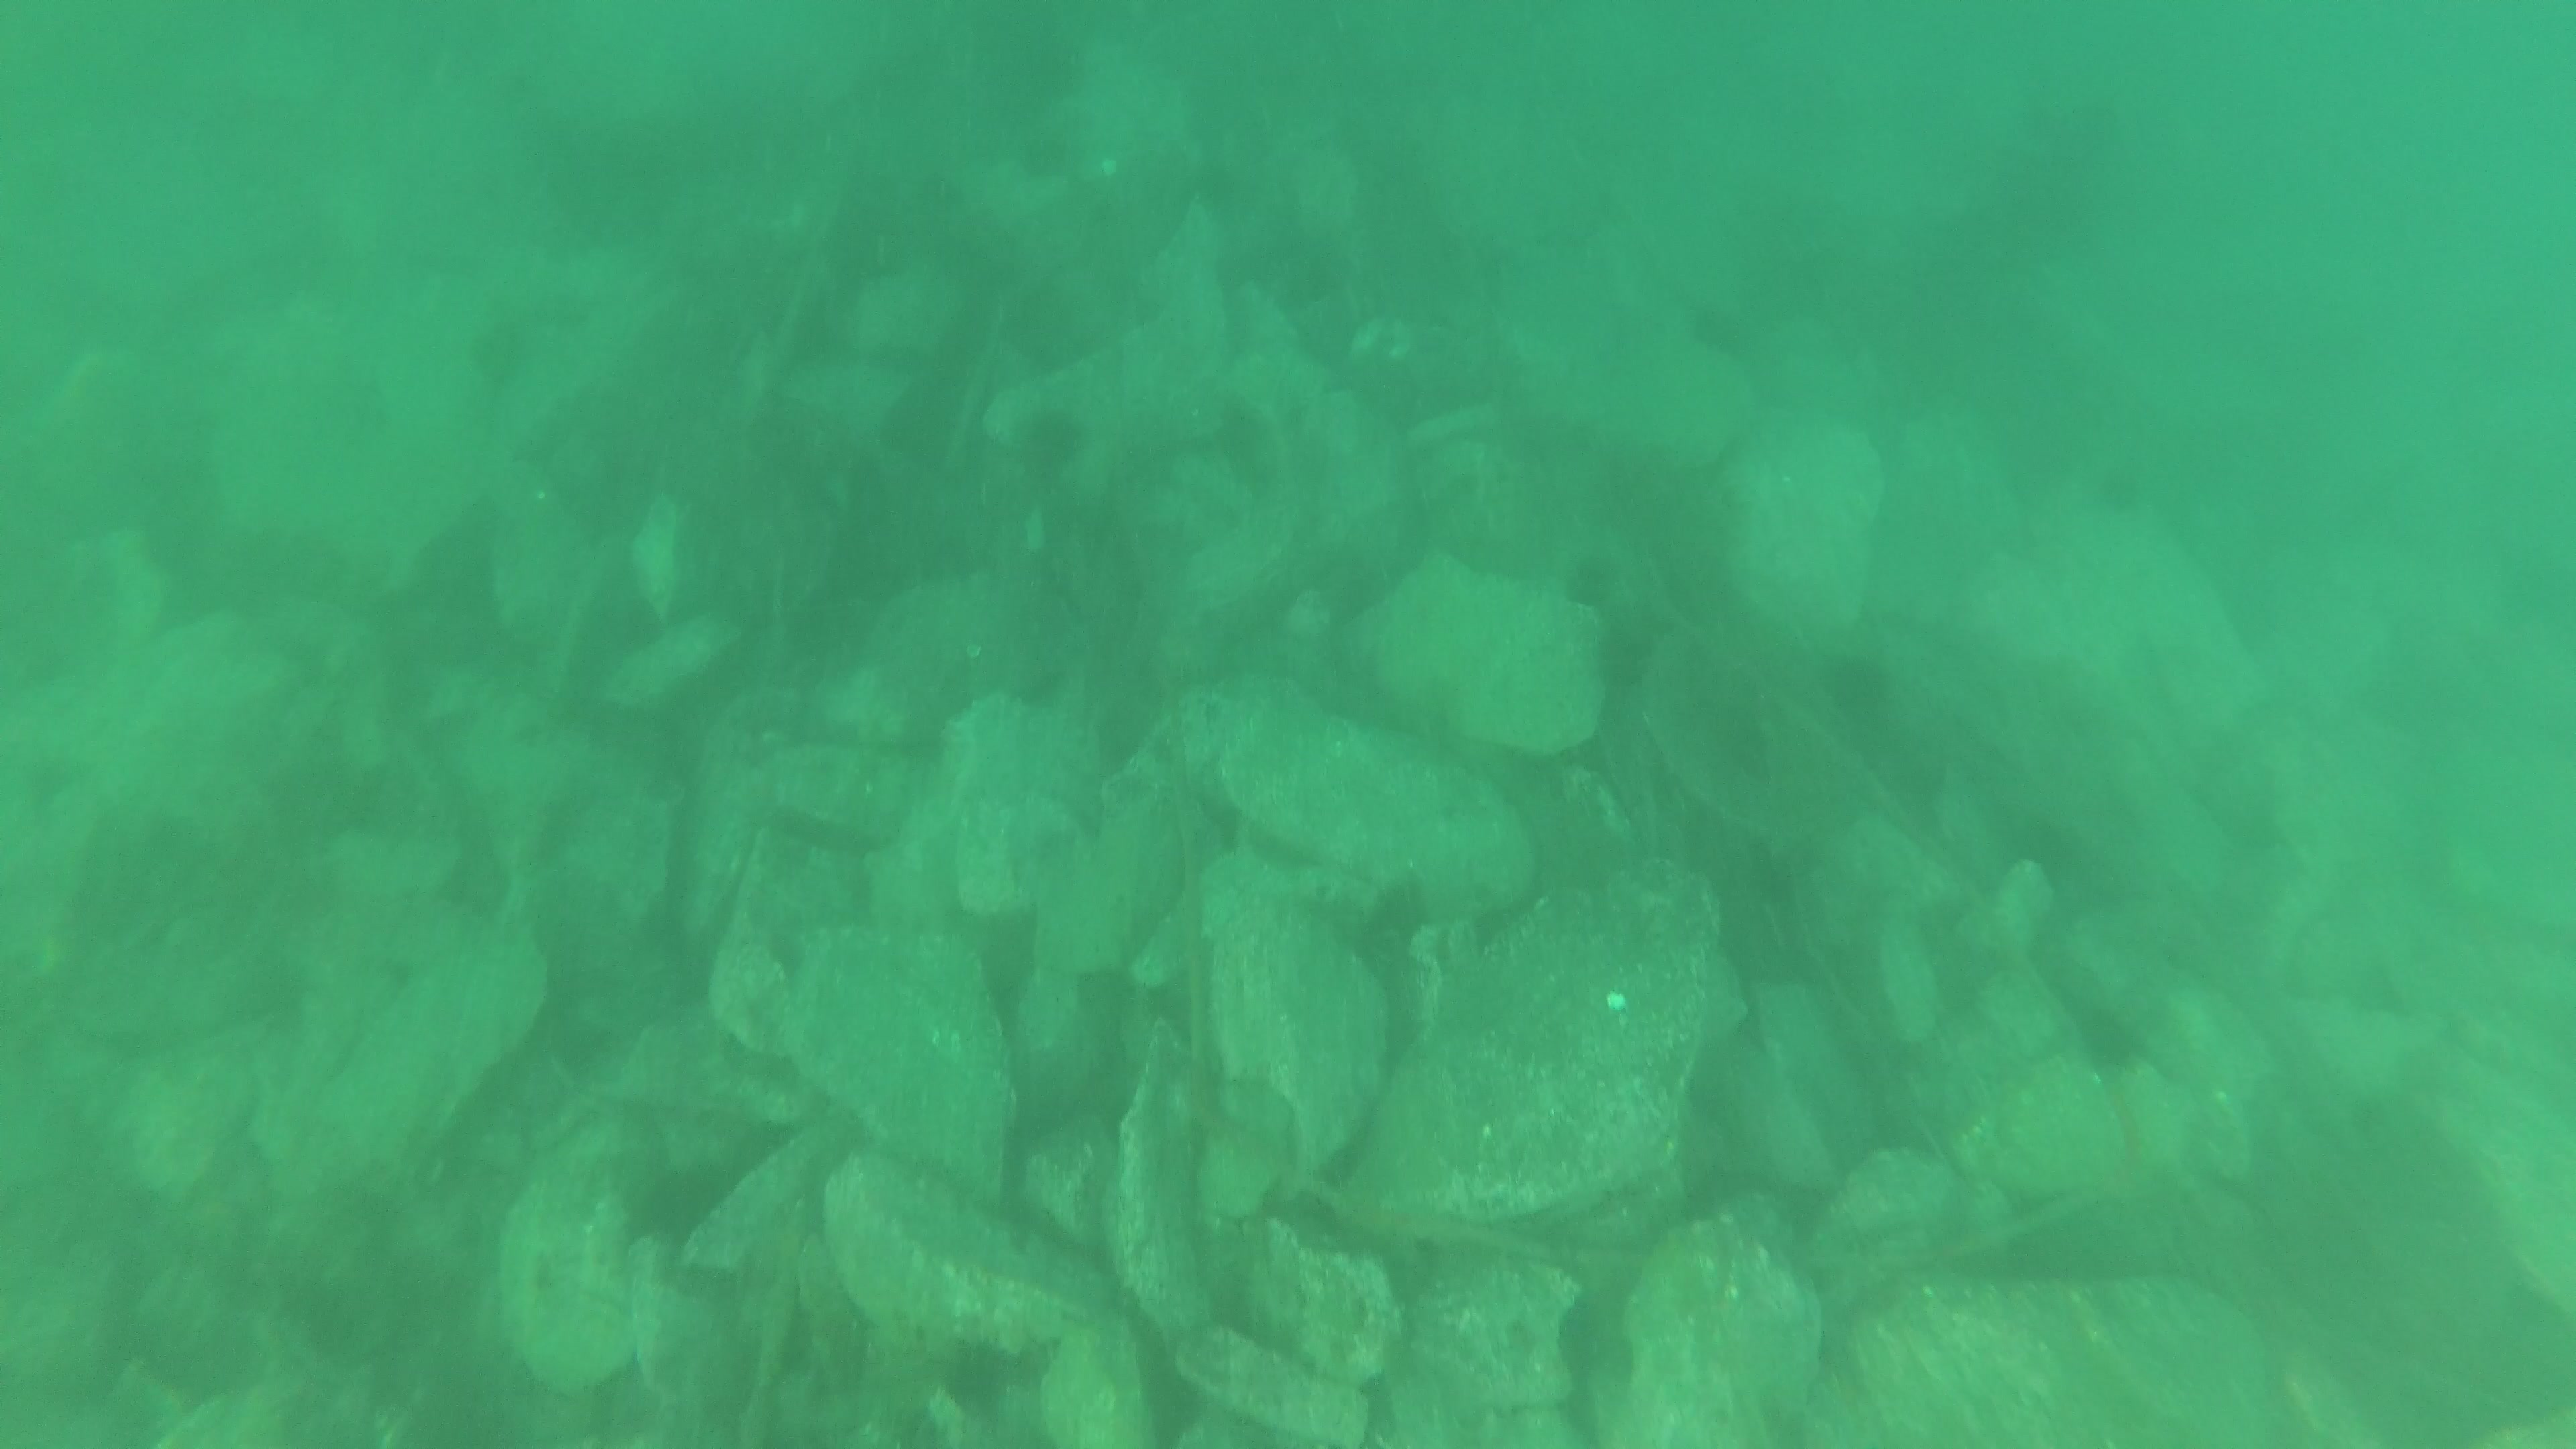echinus: (1005, 407, 1092, 504), (931, 1330, 1012, 1410), (1813, 653, 1888, 725), (1560, 545, 1628, 616), (1591, 607, 1652, 681)
